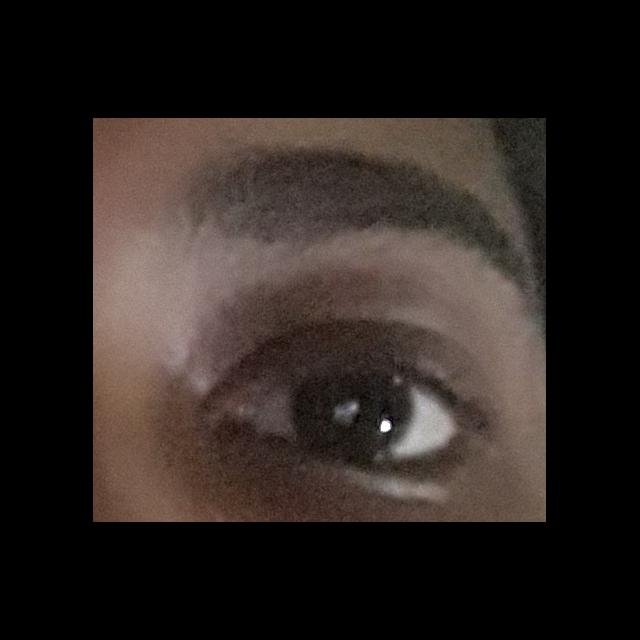eye: (245, 364, 465, 464)
iris: (293, 367, 414, 460)
